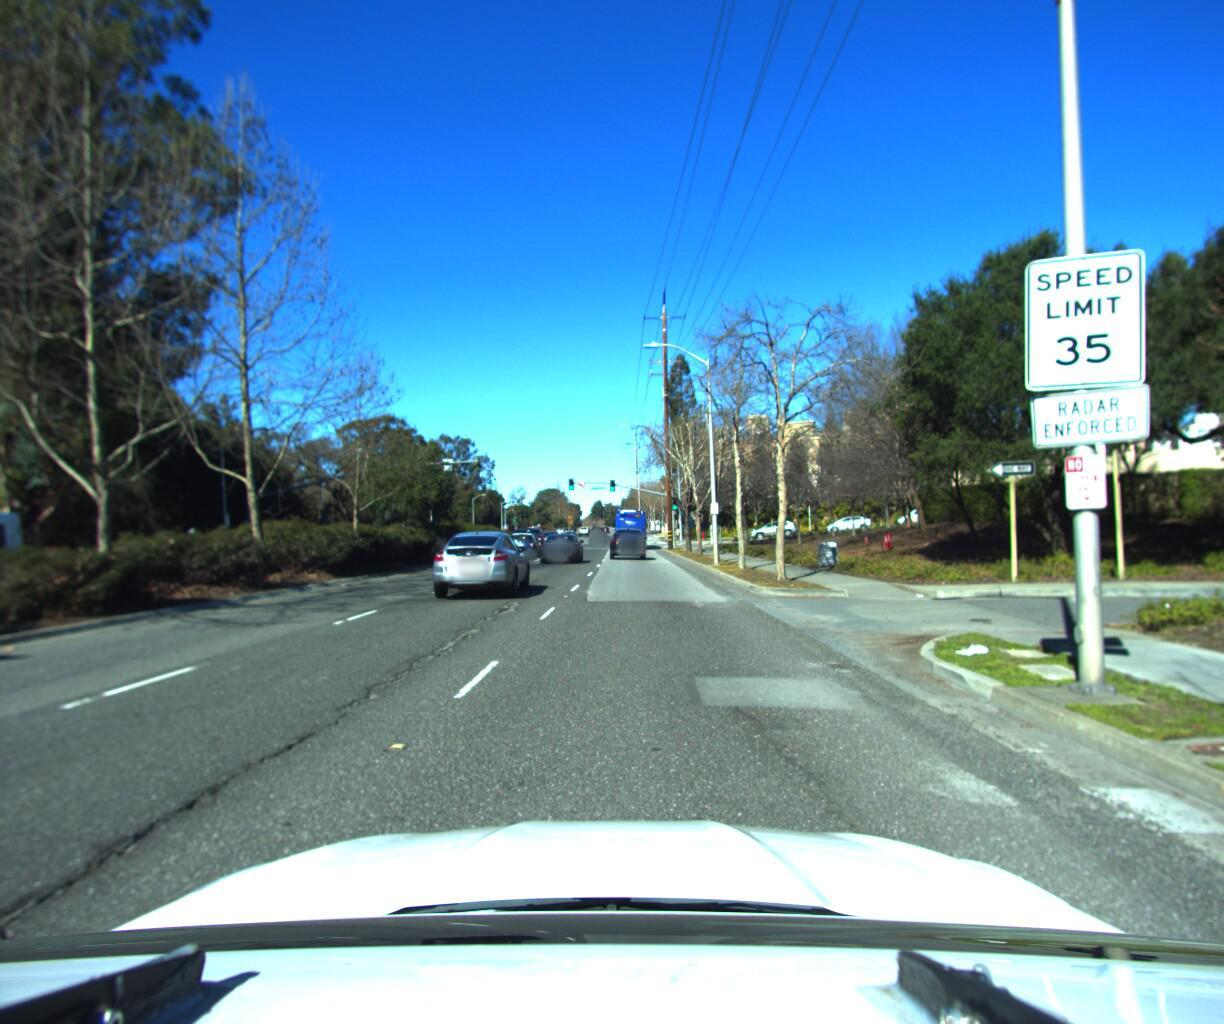bus: (0, 463, 44, 660), (612, 502, 651, 544)
car: (420, 525, 535, 599), (538, 528, 583, 561), (608, 524, 648, 558), (507, 528, 546, 556), (749, 514, 797, 536), (822, 510, 873, 528)
